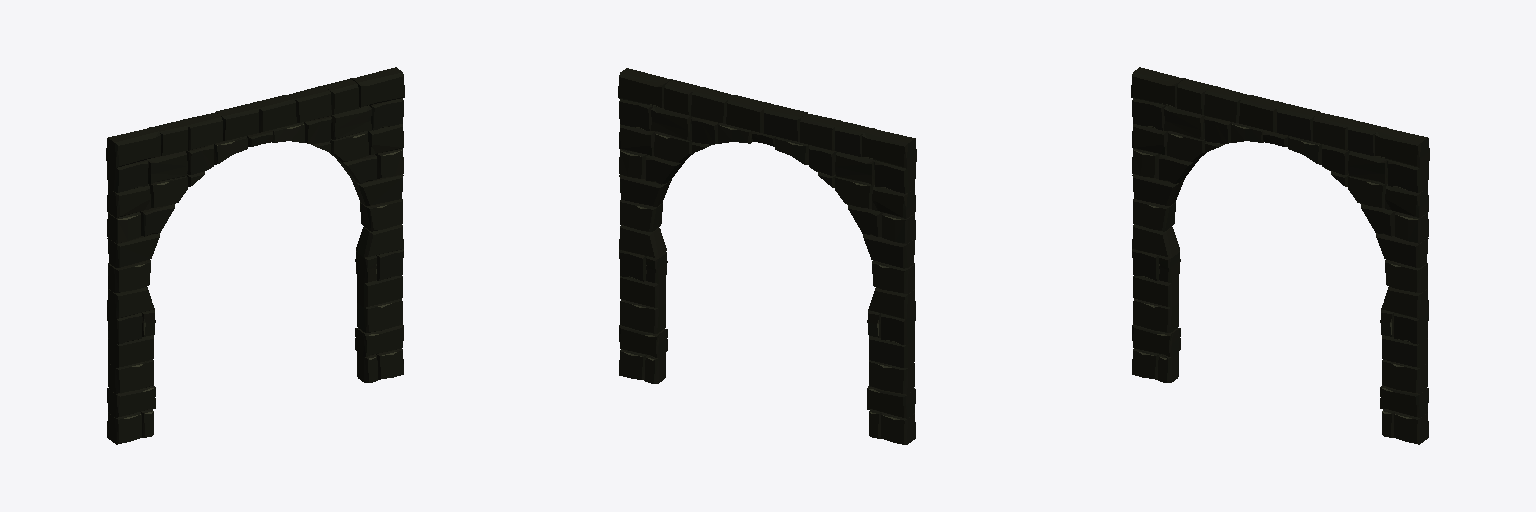
The model's file is Wall_ArchRound.obj.
3 views of the same model, side by side, from view 1: azimuth 30°, elevation 25°; view 2: azimuth 150°, elevation 25°; view 3: azimuth 330°, elevation 25° (orthographic).
Parts seen in each view (by area): view 1: Wall_ArchRound_Cube.042; view 2: Wall_ArchRound_Cube.042; view 3: Wall_ArchRound_Cube.042.
Part boxes in pixels (x1,y1,x2,y2): Wall_ArchRound_Cube.042: (106, 67, 404, 444); Wall_ArchRound_Cube.042: (618, 68, 916, 444); Wall_ArchRound_Cube.042: (1131, 67, 1429, 444).
Size of the model in its own units: 4 by 3.99 by 0.31.